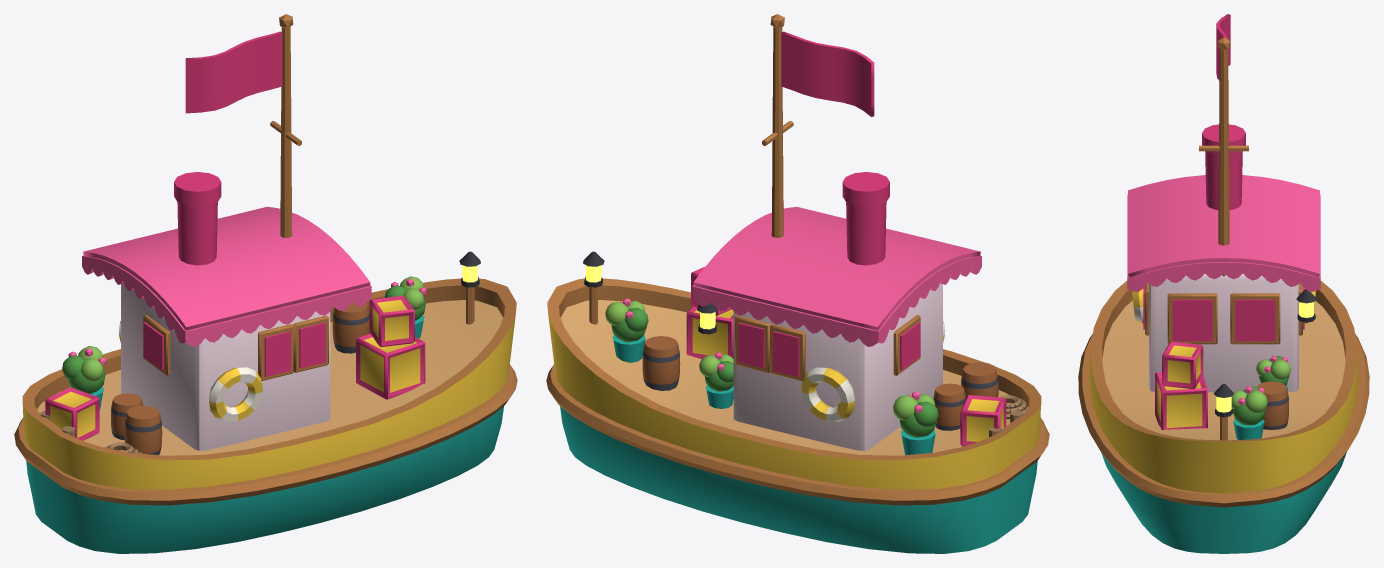
Rendered from acuarela-fiesta.glb.
The picture shows the model from 3 angles, left to right: view 1: azimuth 30°, elevation 25°; view 2: azimuth 150°, elevation 25°; view 3: azimuth 270°, elevation 25°; orthographic projection. The views are drawn at different scales.
Visible parts, largest first — view 1: hull, awning, cabin, rub_rail, crates, flag, valance, windows, barrels, chimney, mast, plants (+2 smaller); view 2: hull, awning, cabin, rub_rail, flag, valance, windows, barrels, plants, crates, chimney, mast (+3 smaller); view 3: hull, awning, cabin, rub_rail, windows, crates, valance, mast, chimney, plants, lanterns, barrels (+3 smaller).
Boxes of the visible parts, x1,y1,x2,y2 form: hull: [22, 278, 516, 553]; awning: [83, 206, 370, 330]; cabin: [121, 283, 330, 450]; rub_rail: [14, 364, 517, 505]; crates: [45, 295, 425, 440]; flag: [185, 31, 282, 113]; valance: [82, 255, 371, 346]; windows: [143, 315, 328, 380]; barrels: [111, 302, 370, 455]; chimney: [174, 172, 221, 265]; mast: [270, 14, 301, 237]; plants: [62, 276, 426, 393]; hull: [547, 278, 1041, 553]; awning: [693, 206, 980, 330]; cabin: [733, 283, 942, 450]; rub_rail: [546, 364, 1049, 505]; flag: [781, 31, 874, 116]; valance: [692, 255, 981, 346]; windows: [735, 315, 920, 380]; barrels: [642, 336, 998, 430]; plants: [605, 298, 938, 437]; crates: [686, 266, 1006, 446]; chimney: [842, 172, 889, 265]; mast: [762, 14, 793, 237]; hull: [1089, 281, 1358, 553]; awning: [1128, 175, 1319, 277]; cabin: [1149, 274, 1298, 392]; rub_rail: [1078, 333, 1369, 507]; windows: [1143, 283, 1304, 344]; crates: [1155, 341, 1207, 429]; valance: [1127, 194, 1320, 291]; mast: [1199, 37, 1248, 276]; chimney: [1202, 124, 1245, 209]; plants: [1231, 356, 1290, 425]; lanterns: [1213, 289, 1316, 440]; barrels: [1257, 381, 1288, 429].
Bounding box in the file's own units: 2 × 1.89 × 1.16.
